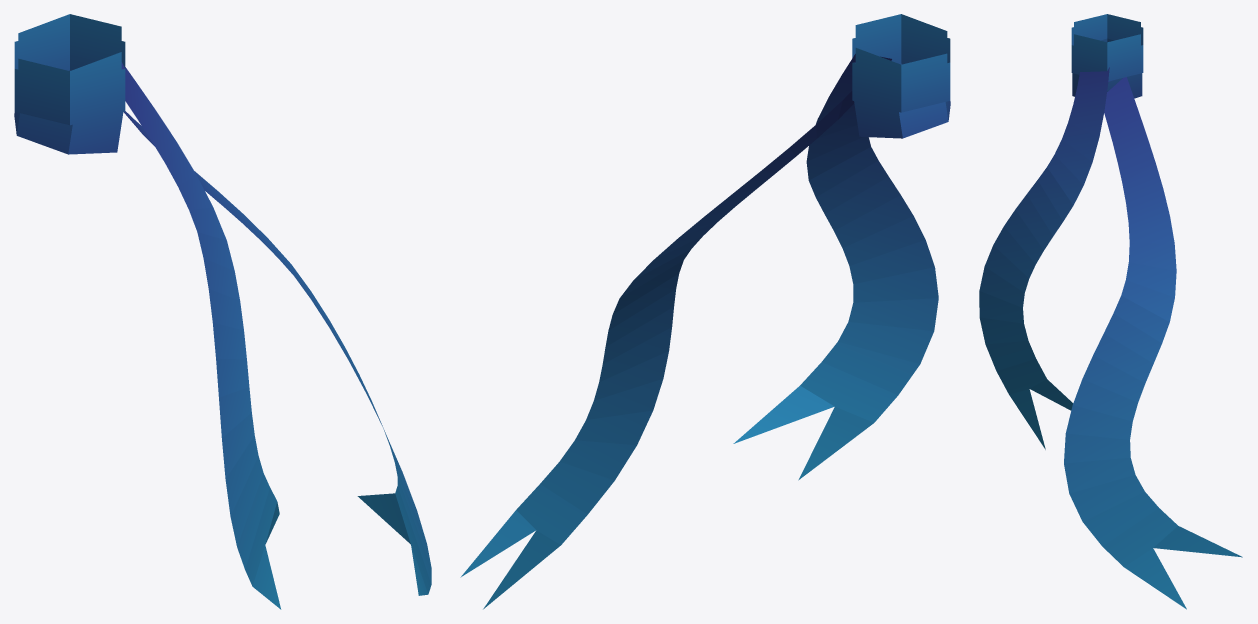
The model's file is ribon_002.fbx.
3 renders of one model, left to right at view 1: azimuth 30°, elevation 25°; view 2: azimuth 150°, elevation 25°; view 3: azimuth 270°, elevation 25°, orthographic. The views are drawn at different scales.
Visible parts, largest first — view 1: ribon.002; view 2: ribon.002; view 3: ribon.002.
Boxes of the visible parts, x1,y1,x2,y2 form: ribon.002: [14, 14, 431, 609]; ribon.002: [460, 14, 950, 609]; ribon.002: [979, 14, 1242, 609].
Bounding box in the file's own units: 33.5 × 48.24 × 25.42.
